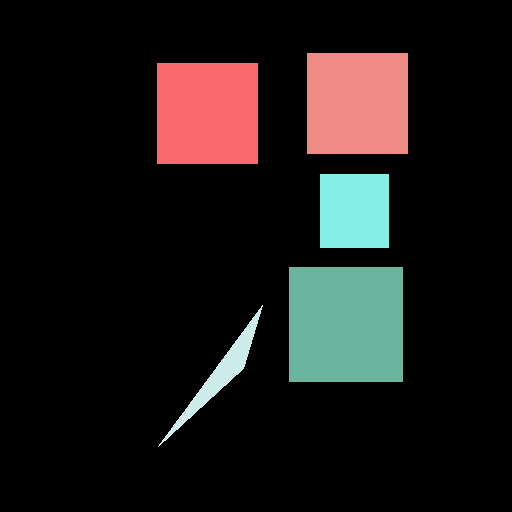square: (289, 267, 402, 381), (157, 63, 257, 163), (307, 53, 407, 153), (320, 174, 388, 247)
triangle: (158, 305, 262, 446)
